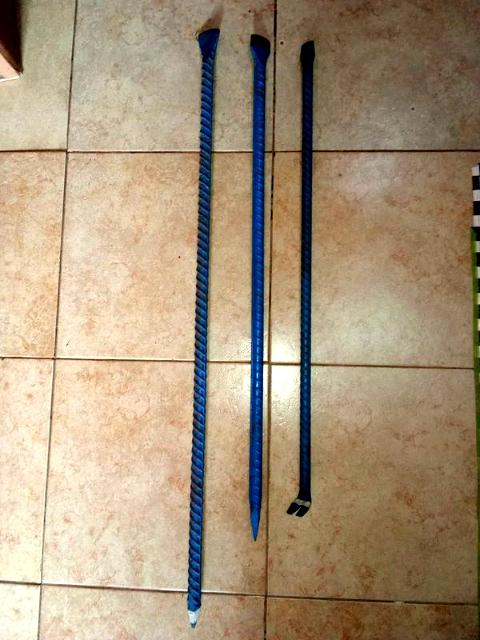crow bar: (172, 4, 232, 640), (284, 28, 320, 520), (243, 30, 271, 548)
